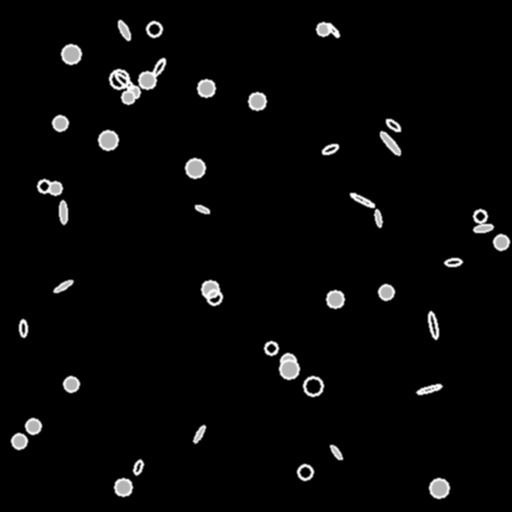pseudomonas: (378, 130, 402, 156), (113, 71, 135, 91), (349, 192, 375, 208), (116, 19, 132, 41), (416, 383, 442, 395), (427, 312, 439, 338), (384, 117, 402, 133), (53, 279, 73, 293), (321, 142, 339, 156), (152, 58, 166, 76), (192, 425, 206, 443), (326, 22, 340, 38), (329, 444, 343, 460), (59, 200, 67, 224), (474, 223, 492, 233), (133, 459, 143, 475), (194, 204, 210, 214), (374, 209, 382, 227), (19, 319, 27, 337), (445, 258, 461, 266)
synechocystis: (62, 45, 80, 63), (430, 479, 448, 497), (186, 159, 204, 177), (304, 377, 322, 395), (280, 360, 298, 378), (99, 131, 117, 149), (110, 70, 128, 88), (202, 281, 218, 297), (139, 72, 155, 88), (249, 93, 265, 109), (115, 479, 131, 495), (327, 291, 343, 307), (198, 80, 214, 96), (147, 22, 161, 36), (26, 419, 40, 433), (53, 116, 67, 130), (207, 290, 221, 304), (379, 285, 393, 299), (494, 235, 508, 249), (298, 465, 312, 479), (12, 434, 26, 448), (281, 354, 295, 368), (64, 377, 78, 391), (265, 342, 277, 354), (474, 210, 486, 222), (127, 86, 139, 98), (317, 23, 329, 35), (38, 180, 50, 192), (122, 91, 134, 103), (49, 182, 61, 194)
